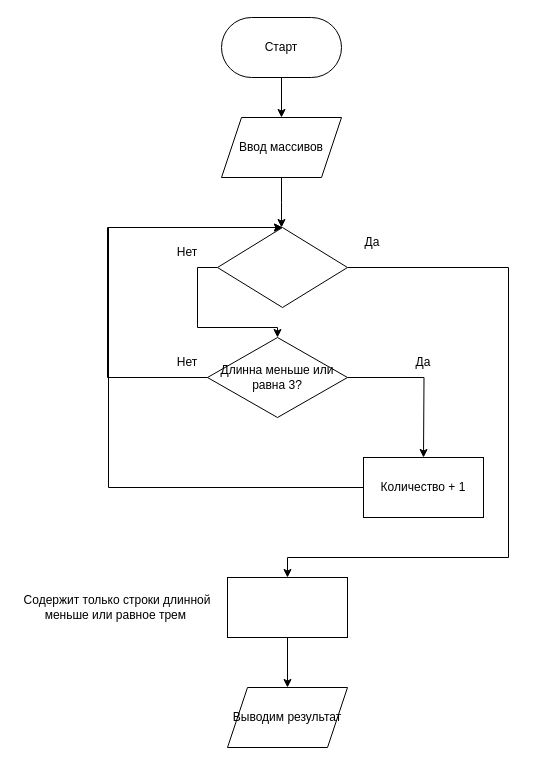
Image size: 534x765. Some labels were removed from this diagram. Each missing label, with the centre of its shape:
Проверены все строки?: the point at 282,267
Создаем массив result: the point at 287,607
